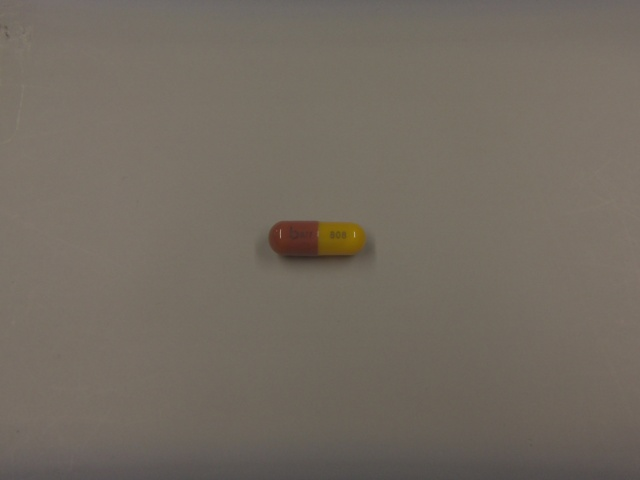capsule: (270, 219, 368, 260)
